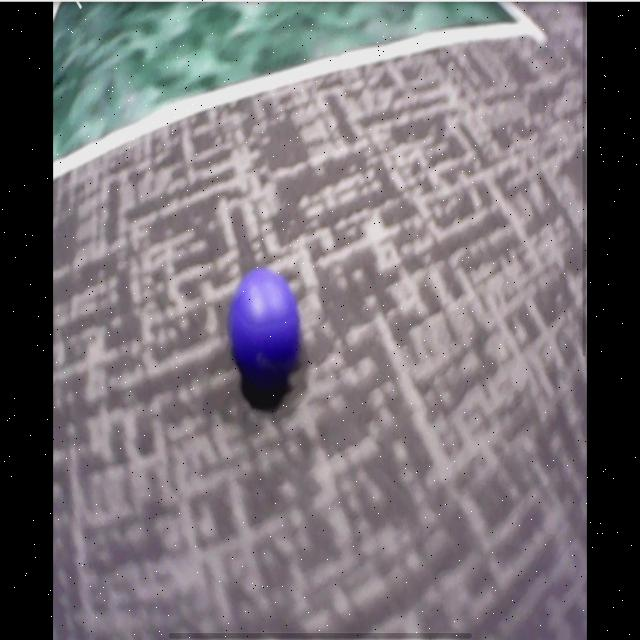ball: (230, 268, 299, 382)
